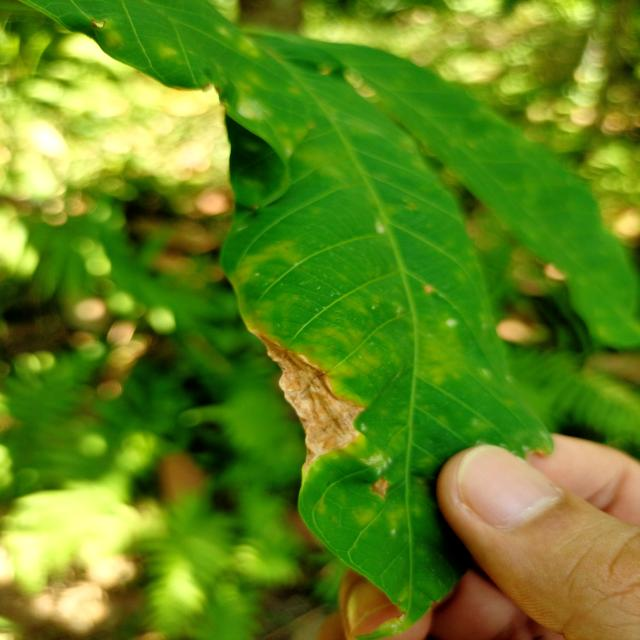Leaf-Blight: (250, 329, 367, 471), (372, 477, 390, 498)
